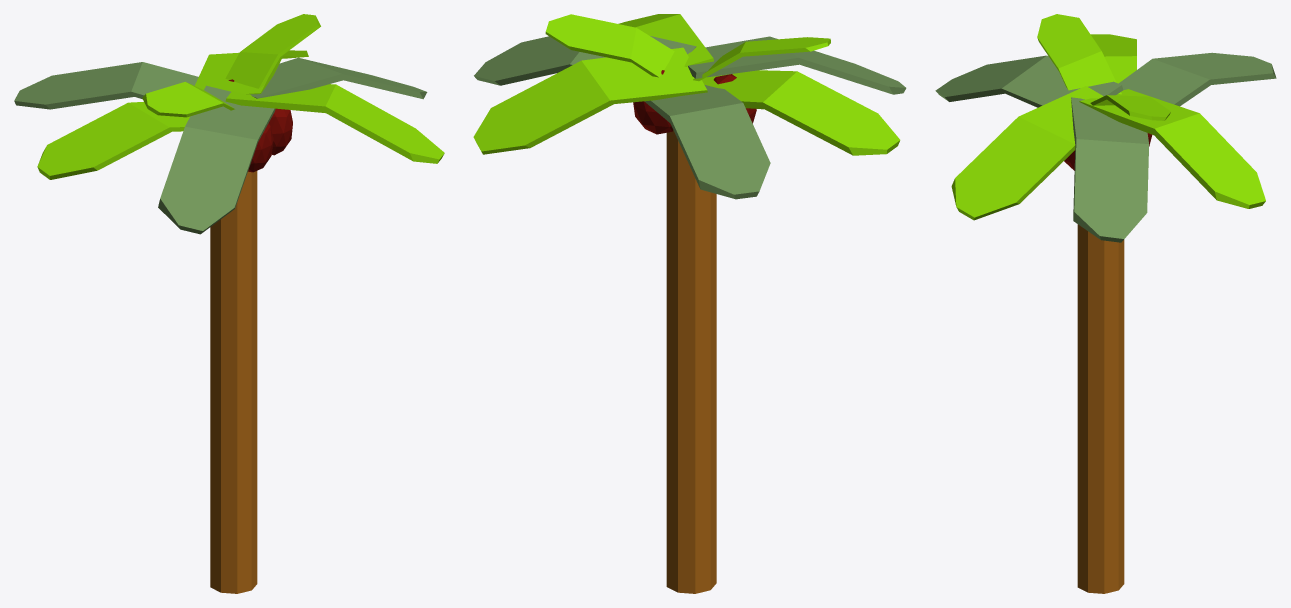
Rendered from Tree.fbx.
3 views of the same model, side by side, from view 1: azimuth 30°, elevation 25°; view 2: azimuth 150°, elevation 25°; view 3: azimuth 270°, elevation 25° (orthographic). The views are drawn at different scales.
Visible parts, largest first — view 1: Cube, Cylinder, Icosphere; view 2: Cube, Cylinder, Icosphere; view 3: Cube, Cylinder.
Boxes of the visible parts, x1,y1,x2,y2 form: Cube: (14,14,444,234); Cylinder: (210,171,257,593); Icosphere: (228,79,292,172); Cube: (473,14,906,199); Cylinder: (666,130,716,593); Icosphere: (633,70,756,134); Cube: (935,14,1276,242); Cylinder: (1077,224,1124,593).
Size of the model in its own units: 402 by 523 by 311.
